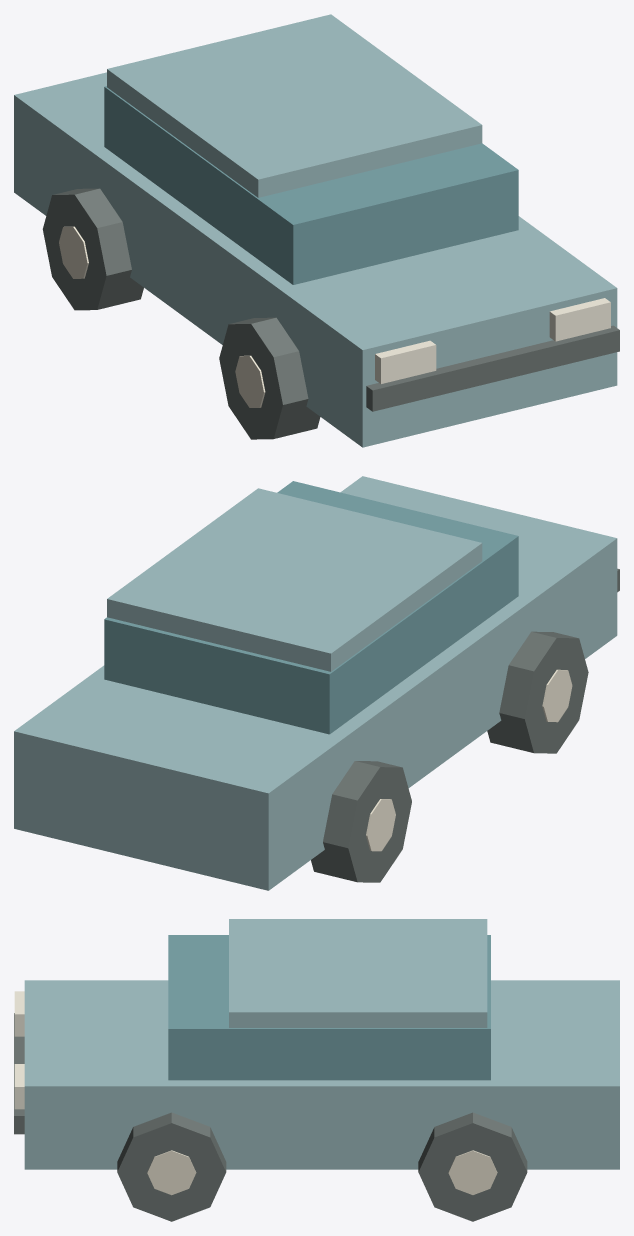
3 renders of one model, top to bottom at view 1: azimuth 30°, elevation 25°; view 2: azimuth 150°, elevation 25°; view 3: azimuth 270°, elevation 25°, orthographic. The views are drawn at different scales.
Size of the model in its own units: 2.12 by 1.48 by 4.23.
